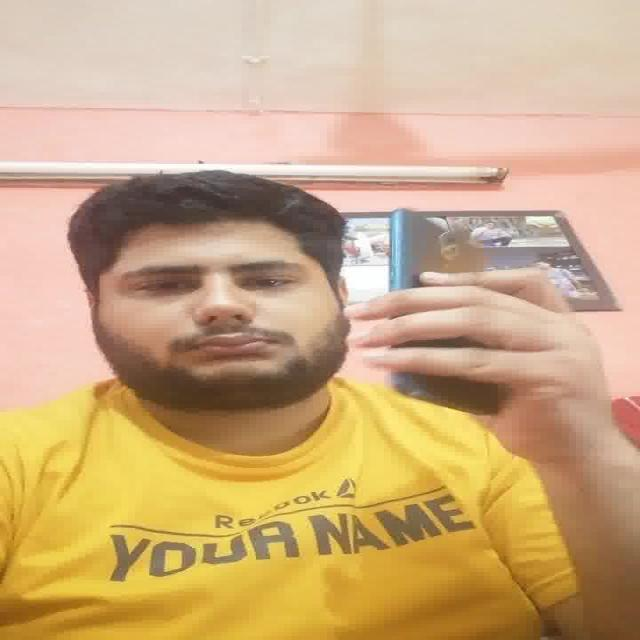Phone: (386, 204, 502, 418)
